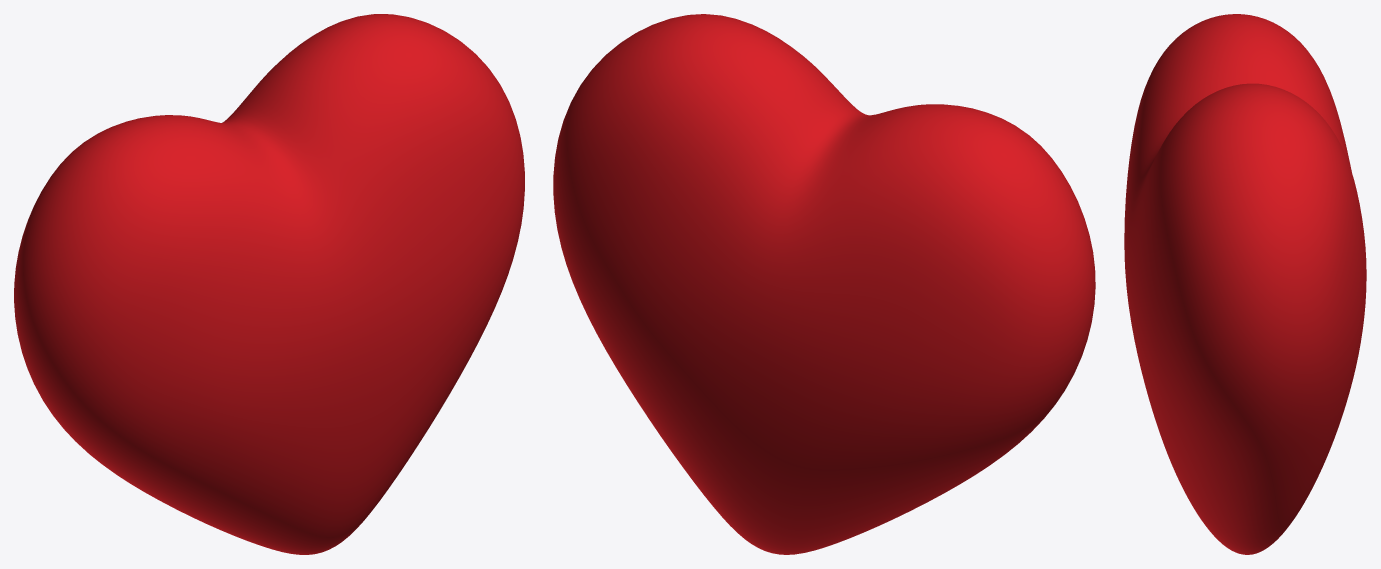
Rendered from heart_red.glb.
3 views of the same model, side by side, from view 1: azimuth 30°, elevation 25°; view 2: azimuth 150°, elevation 25°; view 3: azimuth 270°, elevation 25° (orthographic). The views are drawn at different scales.
Visible parts, largest first — view 1: node_id3; view 2: node_id3; view 3: node_id3.
Part boxes in pixels (left/top/right/bottom): node_id3: left=14, top=14, right=524, bottom=554; node_id3: left=553, top=14, right=1095, bottom=554; node_id3: left=1124, top=14, right=1366, bottom=554.
Bounding box in the file's own units: 0.5097 × 0.4952 × 0.224.
1 material, 1 textured.
